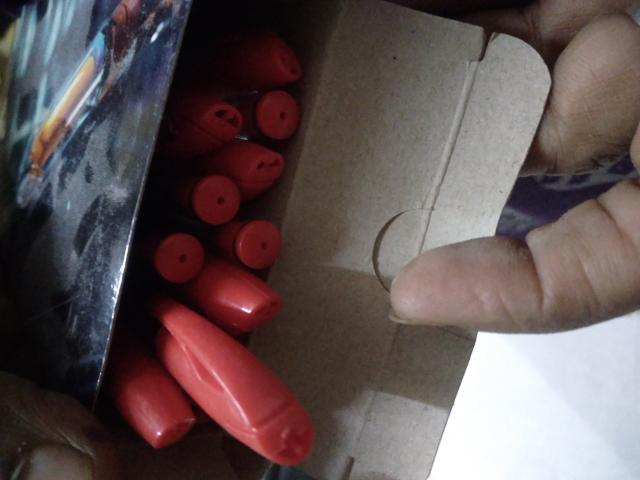PEN: (26, 110, 171, 332)
